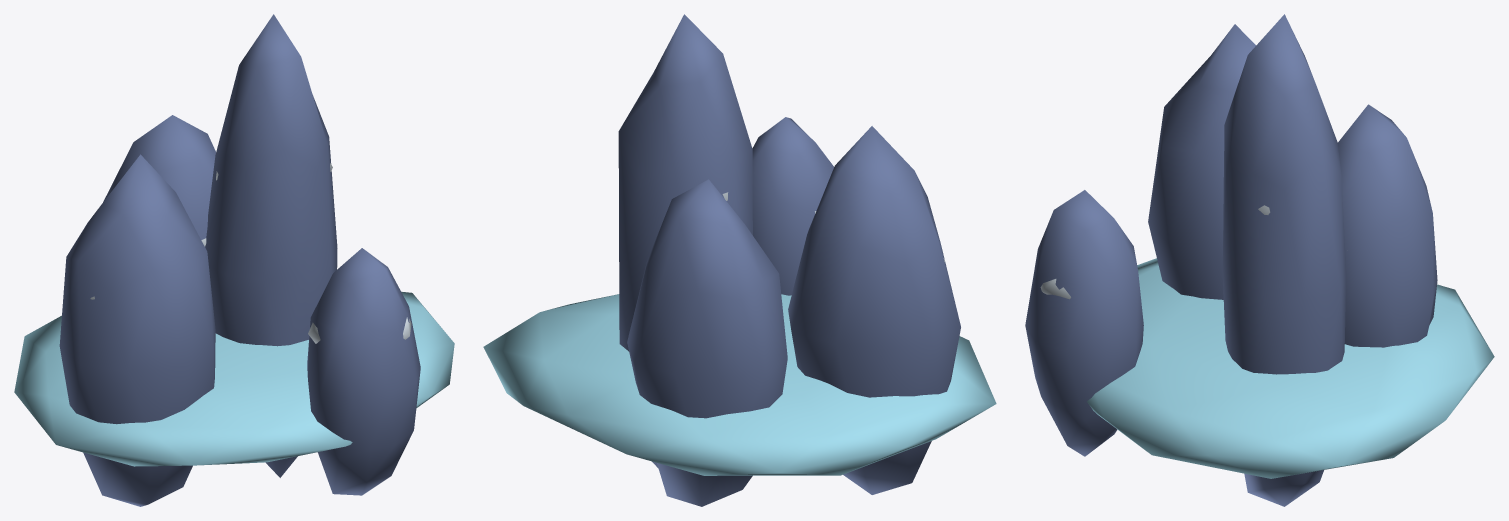
Rendered from r019_sky_lagoon_snow_terrain_snow_02.glb.
The picture shows the model from 3 angles, left to right: view 1: azimuth 30°, elevation 25°; view 2: azimuth 150°, elevation 25°; view 3: azimuth 270°, elevation 25°; orthographic projection. The views are drawn at different scales.
Visible parts, largest first — view 1: r019_sky_lagoon_snow_terrain_snow_02.001; view 2: r019_sky_lagoon_snow_terrain_snow_02.001; view 3: r019_sky_lagoon_snow_terrain_snow_02.001.
Part boxes in pixels (x1=…): r019_sky_lagoon_snow_terrain_snow_02.001: x1=14, y1=14, x2=454, y2=506; r019_sky_lagoon_snow_terrain_snow_02.001: x1=483, y1=14, x2=996, y2=506; r019_sky_lagoon_snow_terrain_snow_02.001: x1=1025, y1=14, x2=1494, y2=506.
Bounding box in the file's own units: 4.36 × 4.5 × 3.88.
